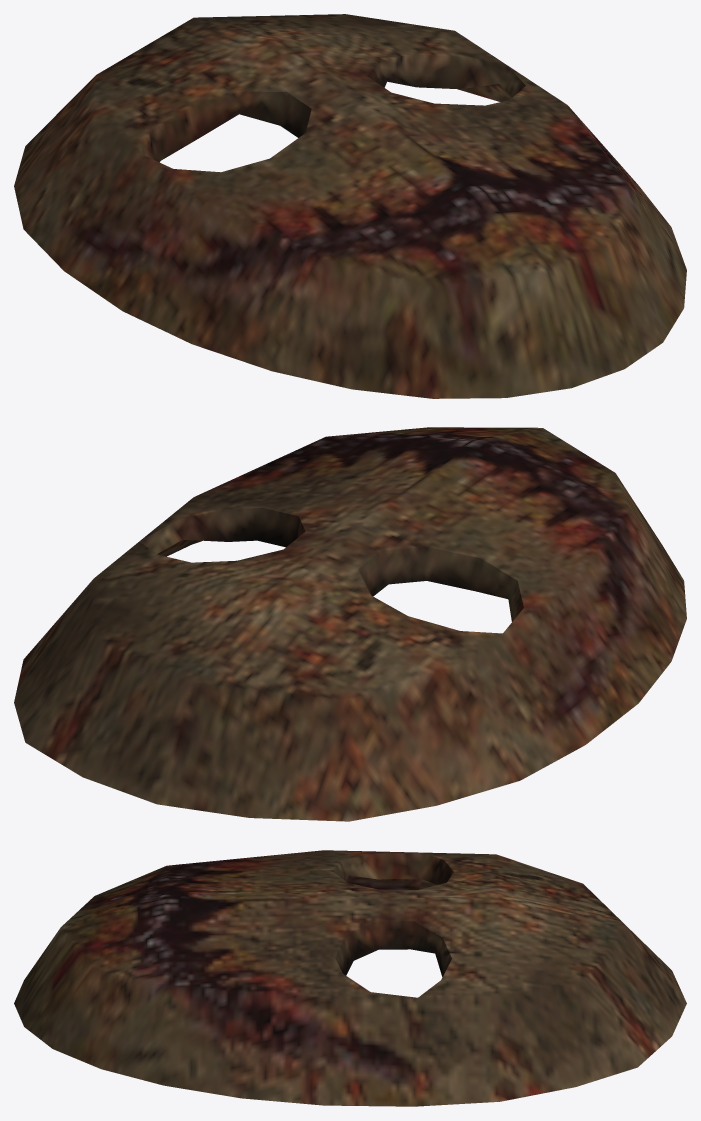
File: mask_mx_2.obj
3 views of the same model, one above another, from view 1: azimuth 30°, elevation 25°; view 2: azimuth 150°, elevation 25°; view 3: azimuth 270°, elevation 25° (orthographic). The views are drawn at different scales.
Visible parts, largest first — view 1: mask_mx_2; view 2: mask_mx_2; view 3: mask_mx_2.
Part boxes in pixels (<box>): mask_mx_2: <box>14,14,686,398</box>; mask_mx_2: <box>14,427,686,821</box>; mask_mx_2: <box>14,850,686,1106</box>.
Size of the model in its own units: 0.2322 by 0.0554 by 0.3198.
